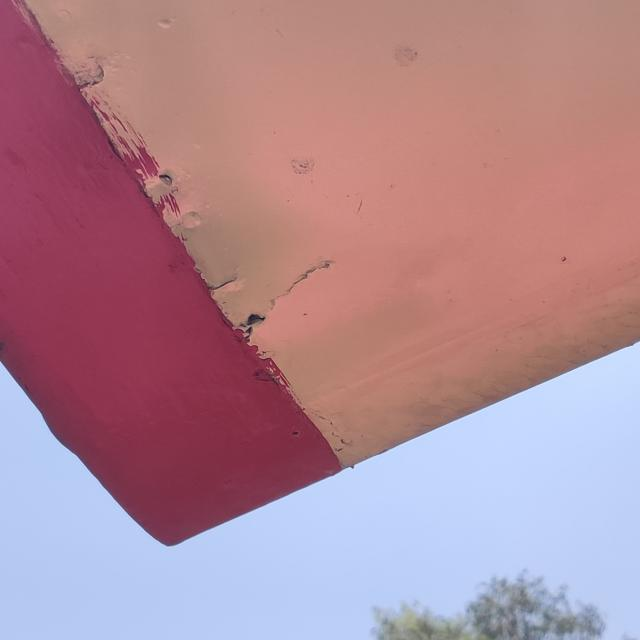crack: (226, 252, 343, 348), (200, 270, 246, 299)
